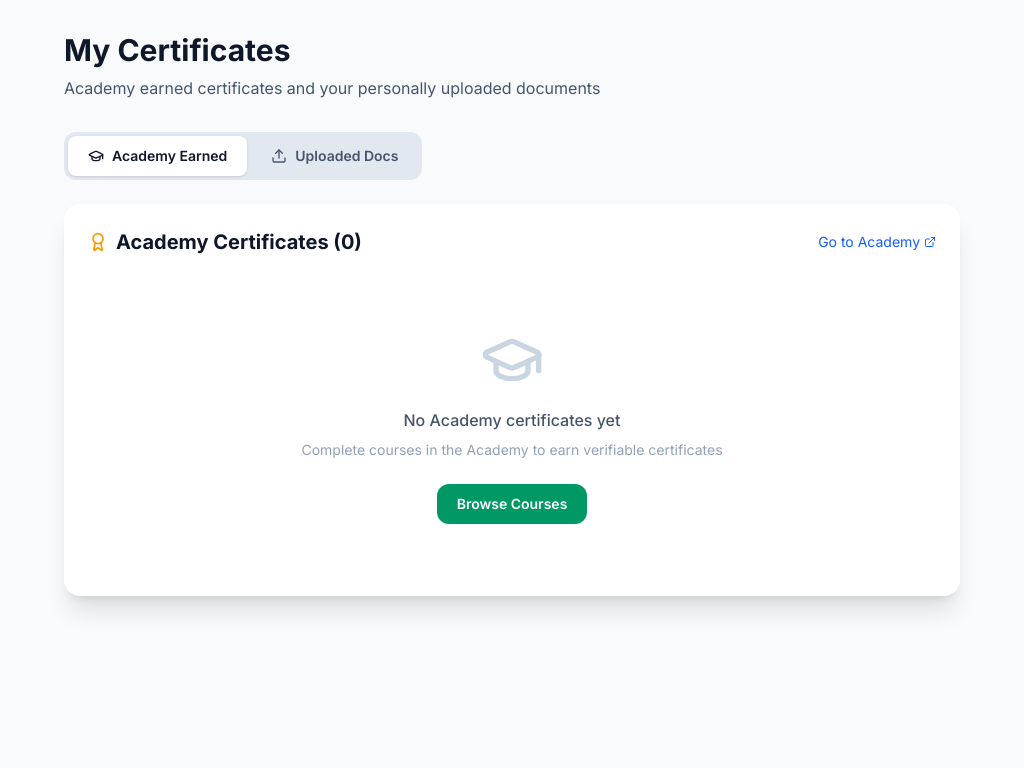
Test case: #592 — the certificates screen, where the two lists fail apart › AND A LEARNER WITH NO CERTIFICATES AT ALL IS TOLD THAT, NOT THIS
The width and height of the screenshot is (1024, 768).
Click the button "Uploaded Docs".
click(335, 156)  # box [251,136,418,176]
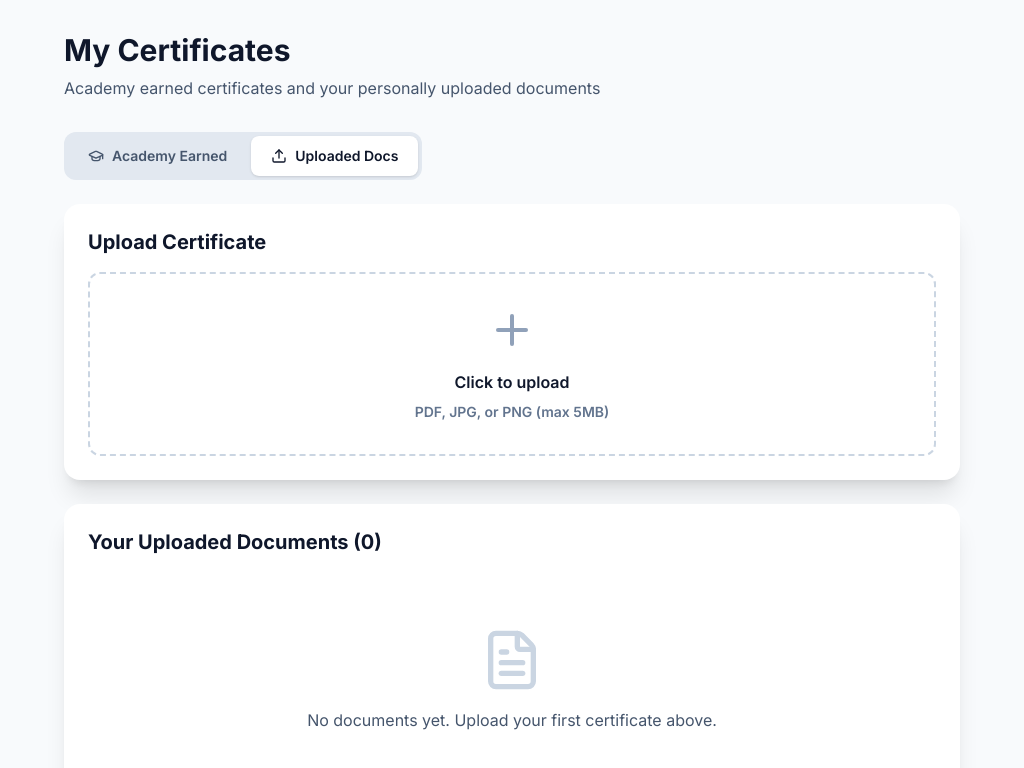
expect the text "No documents yet" is shown: met, box [307,710,717,730]
expect the text "Your Uploaded Documents (0)" is shown: met, box [88,530,382,554]
